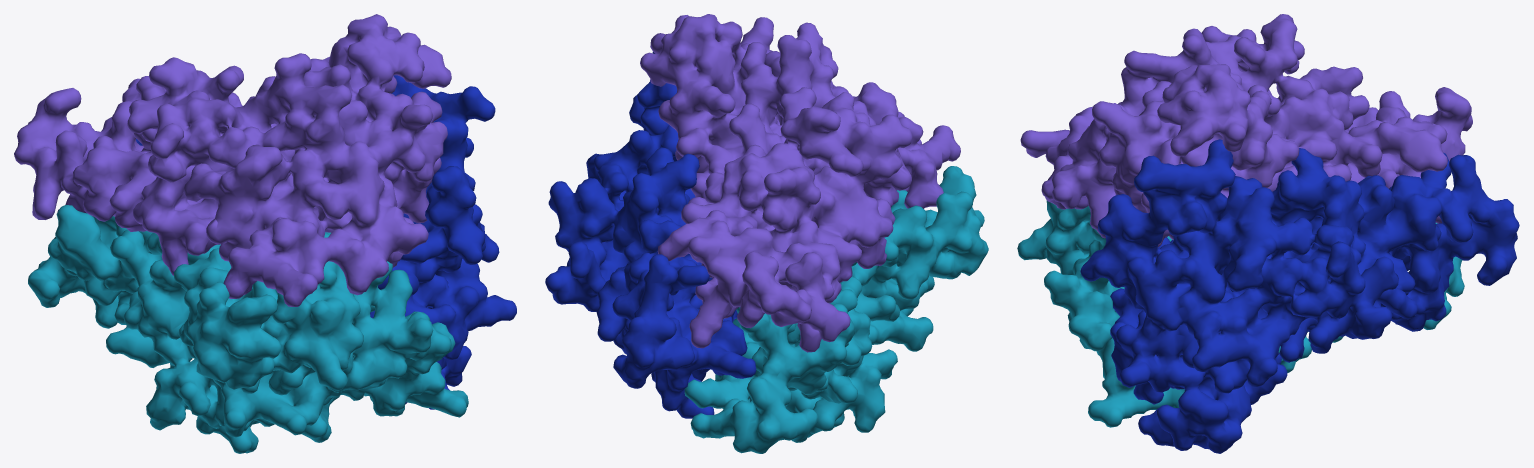
3 renders of one model, left to right at view 1: azimuth 30°, elevation 25°; view 2: azimuth 150°, elevation 25°; view 3: azimuth 270°, elevation 25°, orthographic. The views are drawn at different scales.
Parts seen in each view (by area): view 1: S_SURF; view 2: S_SURF; view 3: S_SURF.
Part boxes in pixels (bbox=[...]): S_SURF: bbox=[14, 14, 516, 453]; S_SURF: bbox=[545, 14, 988, 453]; S_SURF: bbox=[1017, 14, 1519, 453].
Size of the model in its own units: 5.59 by 5.95 by 6.95.
